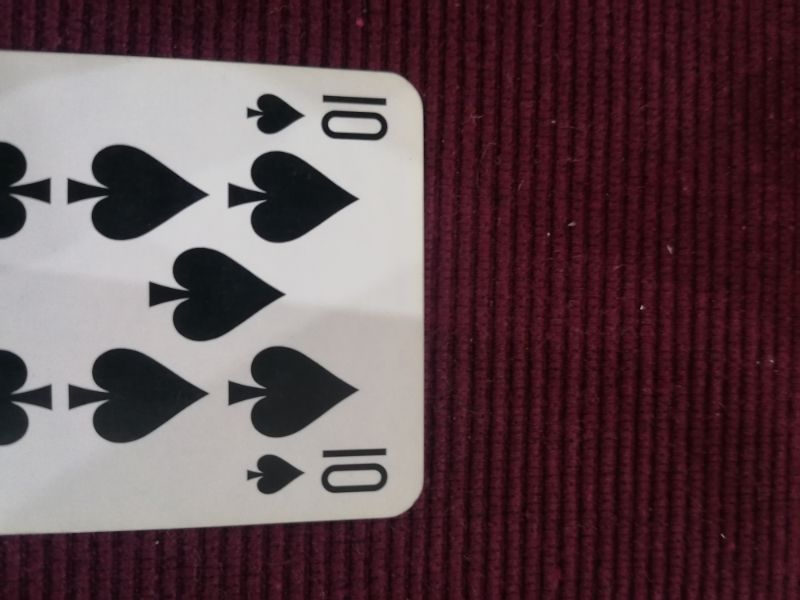Ts: (240, 441, 393, 502), (243, 89, 397, 144)
